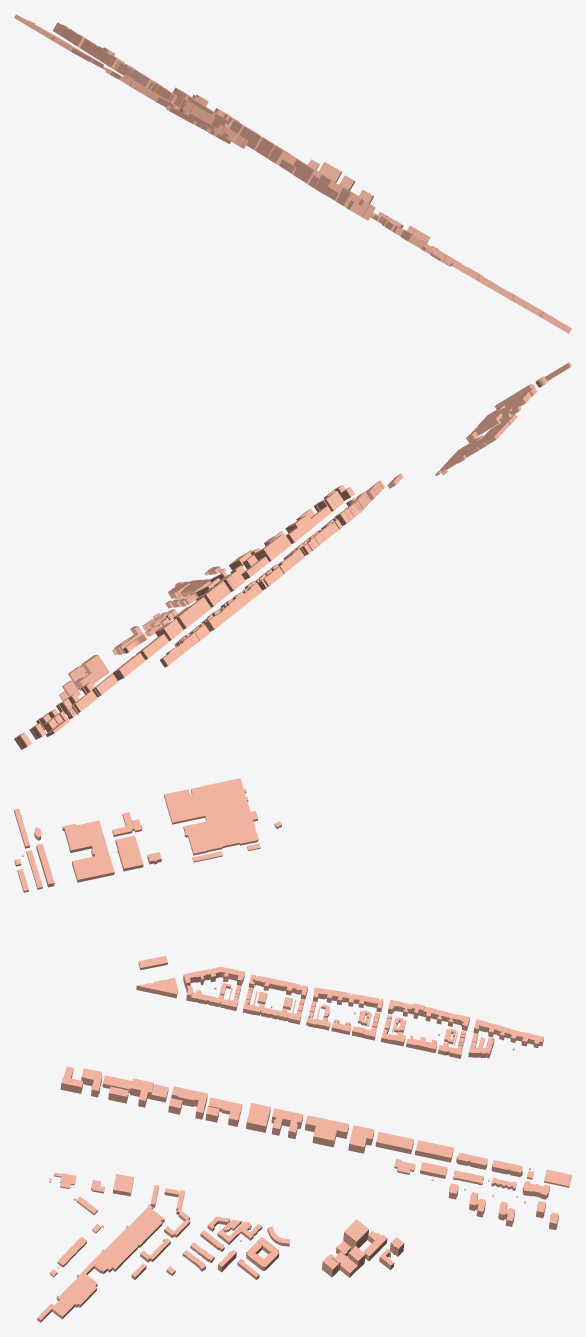
3 views of the same model, one above another, from view 1: azimuth 30°, elevation 25°; view 2: azimuth 150°, elevation 25°; view 3: azimuth 270°, elevation 25° (orthographic). The views are drawn at different scales.
Bounding box in the file's own units: 1172 × 869 × 1308.
